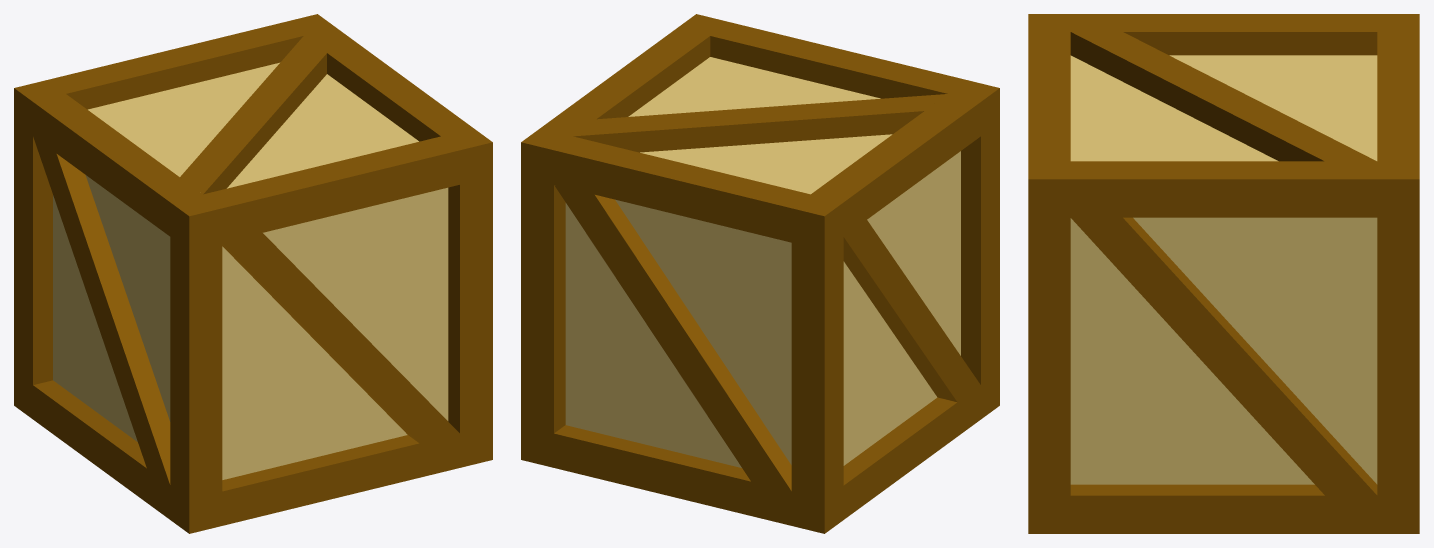
Rendered from box_Small.fbx.
3 views of the same model, side by side, from view 1: azimuth 30°, elevation 25°; view 2: azimuth 150°, elevation 25°; view 3: azimuth 270°, elevation 25° (orthographic). The views are drawn at different scales.
Visible parts, largest first — view 1: box_Small; view 2: box_Small; view 3: box_Small.
Boxes of the visible parts, x1,y1,x2,y2 form: box_Small: (14,14,492,533); box_Small: (521,14,999,533); box_Small: (1028,14,1419,533).
Size of the model in its own units: 192 by 192 by 192.
